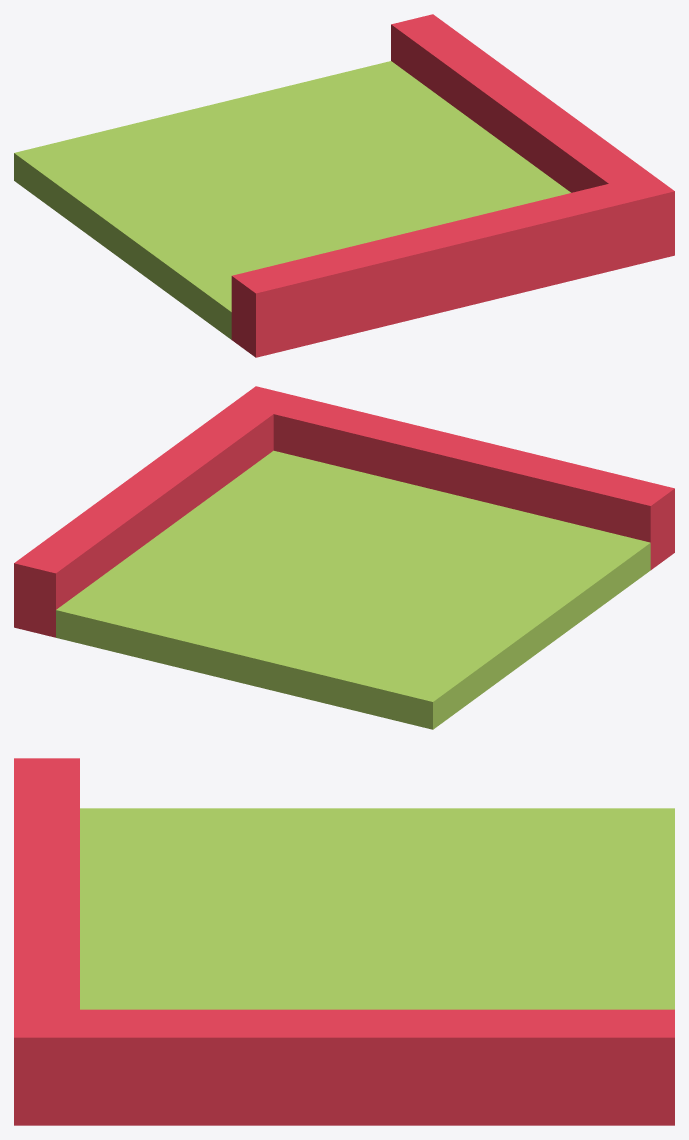
File: corner.fbx
3 renders of one model, top to bottom at view 1: azimuth 30°, elevation 25°; view 2: azimuth 150°, elevation 25°; view 3: azimuth 270°, elevation 25°, orthographic. The views are drawn at different scales.
Visible parts, largest first — view 1: corner; view 2: corner; view 3: corner.
Part boxes in pixels (left/top/right/bottom): corner: left=14, top=14, right=674, bottom=357; corner: left=14, top=386, right=674, bottom=729; corner: left=14, top=758, right=674, bottom=1125.
Bounding box in the file's own units: 10 × 1.47 × 10.
